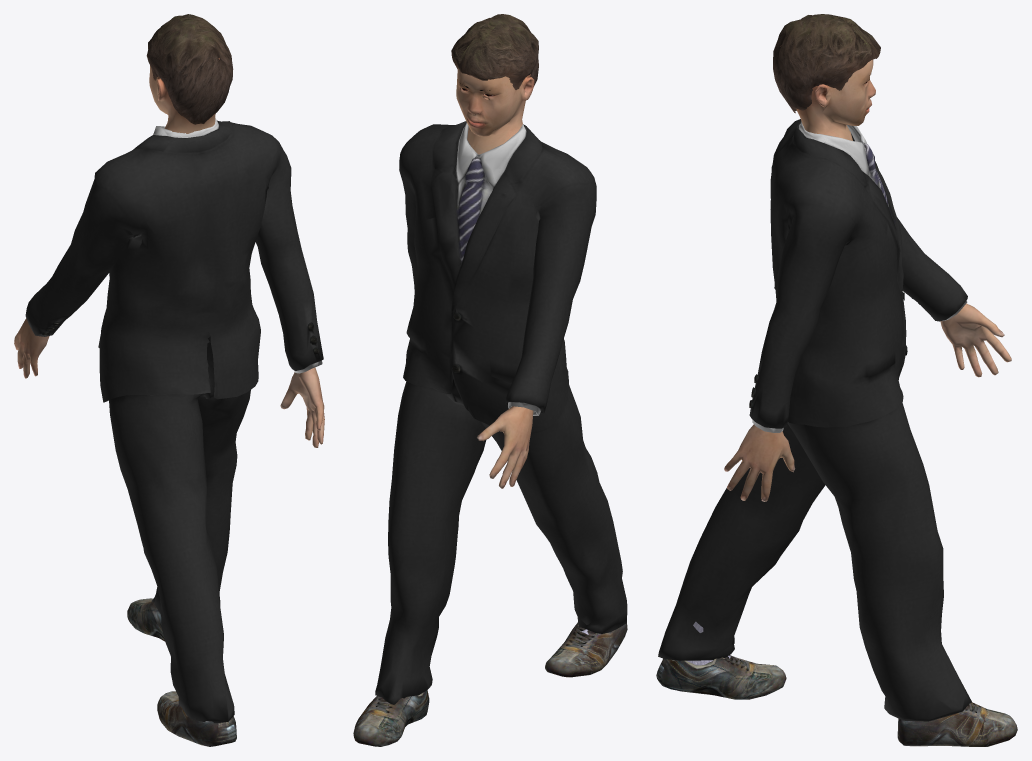
File: walking_1.gltf
The picture shows the model from 3 angles, left to right: view 1: azimuth 30°, elevation 25°; view 2: azimuth 150°, elevation 25°; view 3: azimuth 270°, elevation 25°; orthographic projection. The views are drawn at different scales.
Parts seen in each view (by area): view 1: walking; view 2: walking; view 3: walking.
Boxes of the visible parts, box(x1,y1,x2,y2) form: walking: box(14, 14, 324, 746); walking: box(353, 14, 627, 746); walking: box(656, 14, 1017, 746).
Size of the model in its own units: 0.5015 by 1.54 by 0.7174.
6 materials, 6 textured.
